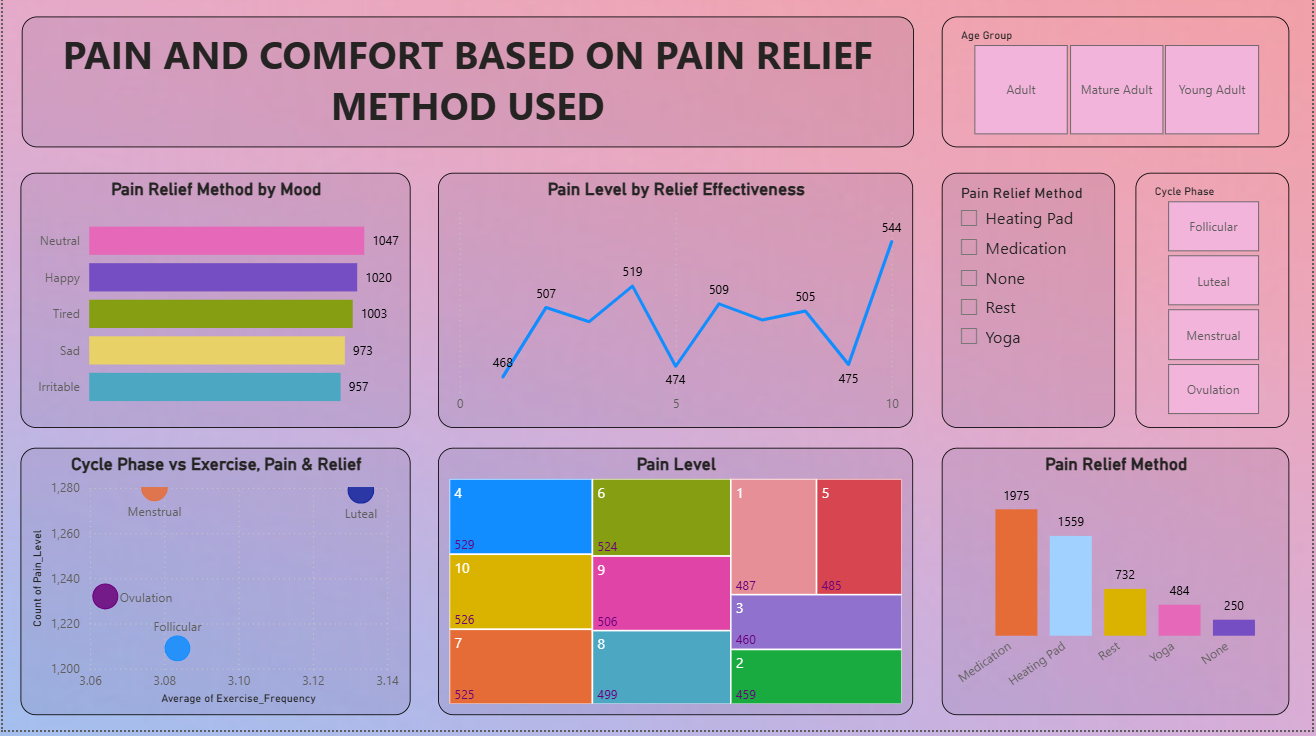

Layout of this report page (visuals, bound fields, positions):
{"tool":"powerbi","page":{"name":"Page 4","canvas":[1280,720],"ordinal":3},"visuals":[{"type":"treemap","title":"Pain Level","fields":{"Group":["pain_relief_comfort.Pain_Level"],"Values":["CountNonNull(pain_relief_comfort.Participant_ID)"]},"box":[425.5,443.9,464.7,261.7],"z":0},{"type":"columnChart","title":" Pain Relief Method","fields":{"Category":["pain_relief_comfort.Pain_Relief_Method"],"Y":["CountNonNull(pain_relief_comfort.Participant_ID)"]},"box":[918.3,443.9,339.9,261.7],"z":1000},{"type":"lineChart","title":" Pain Level by Relief Effectiveness","fields":{"Category":["pain_relief_comfort.Relief_Effectiveness"],"Y":["CountNonNull(pain_relief_comfort.Pain_Level)"]},"box":[425.5,174.9,464.7,249.5],"z":2000},{"type":"barChart","title":" Pain Relief Method by Mood","fields":{"Category":["pain_relief_comfort.Mood"],"Y":["CountNonNull(pain_relief_comfort.Pain_Relief_Method)"]},"box":[17.1,174.9,381.5,249.5],"z":3000},{"type":"slicer","fields":{"Values":["food_cravings_behavior.Cycle_Phase"]},"box":[1107.9,174.9,150.4,249.5],"z":4000},{"type":"slicer","fields":{"Values":["pain_relief_comfort.Pain_Relief_Method"]},"box":[918.3,174.9,170,249.5],"z":5000},{"type":"scatterChart","title":"Cycle Phase vs Exercise, Pain & Relief","fields":{"X":["Avg(demographics_lifestyle.Exercise_Frequency)"],"Y":["CountNonNull(pain_relief_comfort.Pain_Level)"],"Series":["pain_relief_comfort.Cycle_Phase"],"Size":["Sum(pain_relief_comfort.Relief_Effectiveness)"]},"box":[17.1,443.9,381.5,261.7],"z":6000},{"type":"slicer","fields":{"Values":["demographics_lifestyle.Age Group"]},"box":[918.3,22,339.9,128.4],"z":7000},{"type":"textbox","box":[18.3,22,873.1,128.4],"z":8000}]}

Visuals, with their boxes in screenshot pixels (x1, y1, x2, y2), scaled from the page's 1280x720 canvas onto the 1316x736 screenshot:
"Pain Level" treemap: [437, 454, 915, 721]
" Pain Relief Method" columnChart: [944, 454, 1294, 721]
" Pain Level by Relief Effectiveness" lineChart: [437, 179, 915, 434]
" Pain Relief Method by Mood" barChart: [18, 179, 410, 434]
slicer - food_cravings_behavior.Cycle_Phase: [1139, 179, 1294, 434]
slicer - pain_relief_comfort.Pain_Relief_Method: [944, 179, 1119, 434]
"Cycle Phase vs Exercise, Pain & Relief" scatterChart: [18, 454, 410, 721]
slicer - demographics_lifestyle.Age Group: [944, 22, 1294, 154]
textbox: [19, 22, 916, 154]
